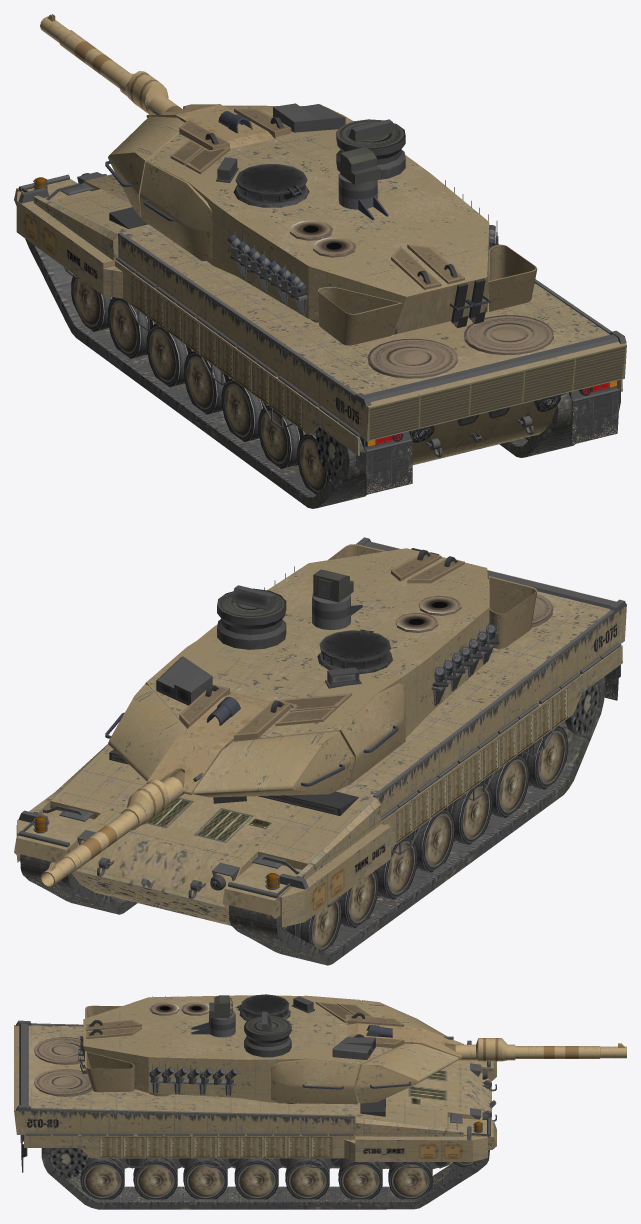
File: v_tank.glb
The picture shows the model from 3 angles, top to bottom: view 1: azimuth 30°, elevation 25°; view 2: azimuth 150°, elevation 25°; view 3: azimuth 270°, elevation 25°; orthographic projection. The views are drawn at different scales.
Parts seen in each view (by area): view 1: Body; view 2: Body; view 3: Body.
Boxes of the visible parts, box(x1,y1,x2,y2) form: Body: box(14, 14, 626, 508); Body: box(14, 537, 626, 965); Body: box(14, 994, 626, 1209).
Bounding box in the file's own units: 2.29 × 1.92 × 6.2.
Materials: 1 (1 with a texture image).
